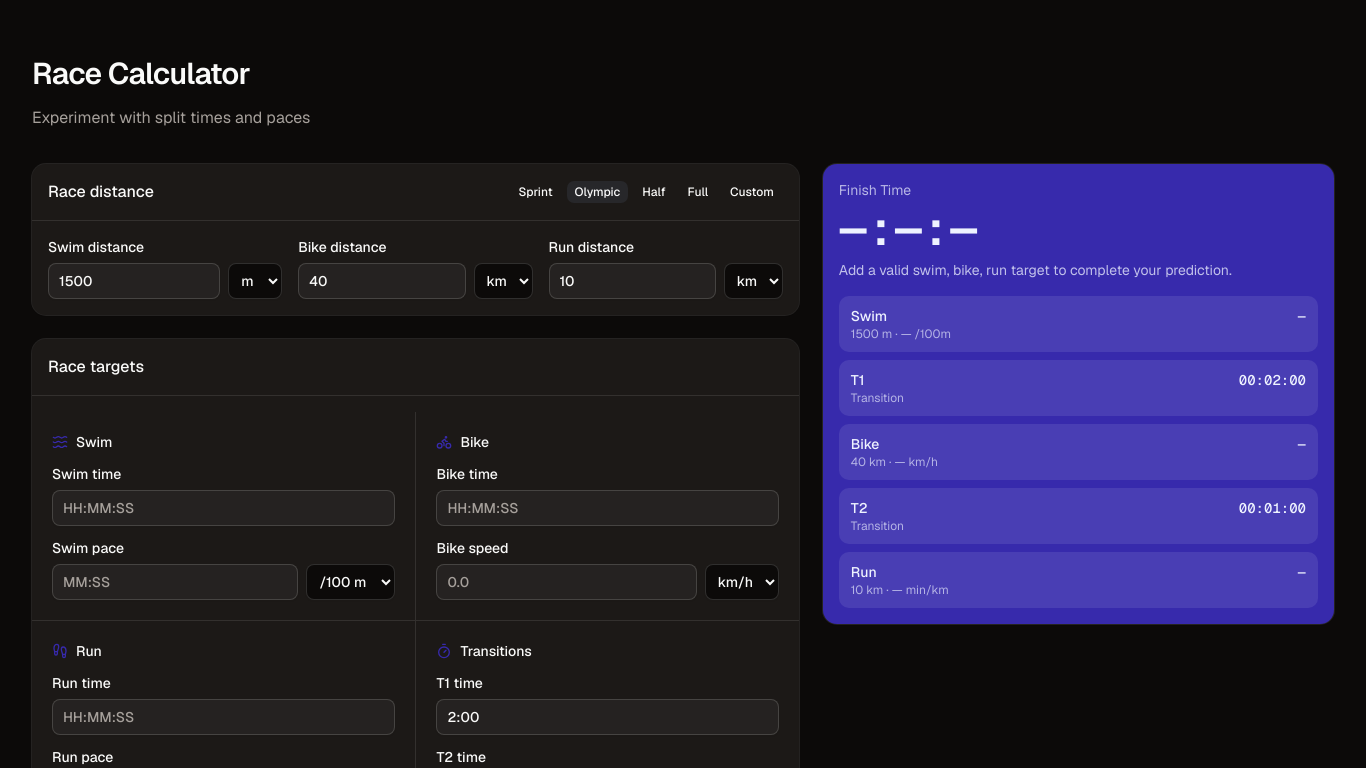
RaceTimeCalculator › marks edited presets custom and preserves targets across preset changes
Step 1. Type "30:00" into the field labelled "Swim time" → [224, 508], box 52,490 -> 395,526
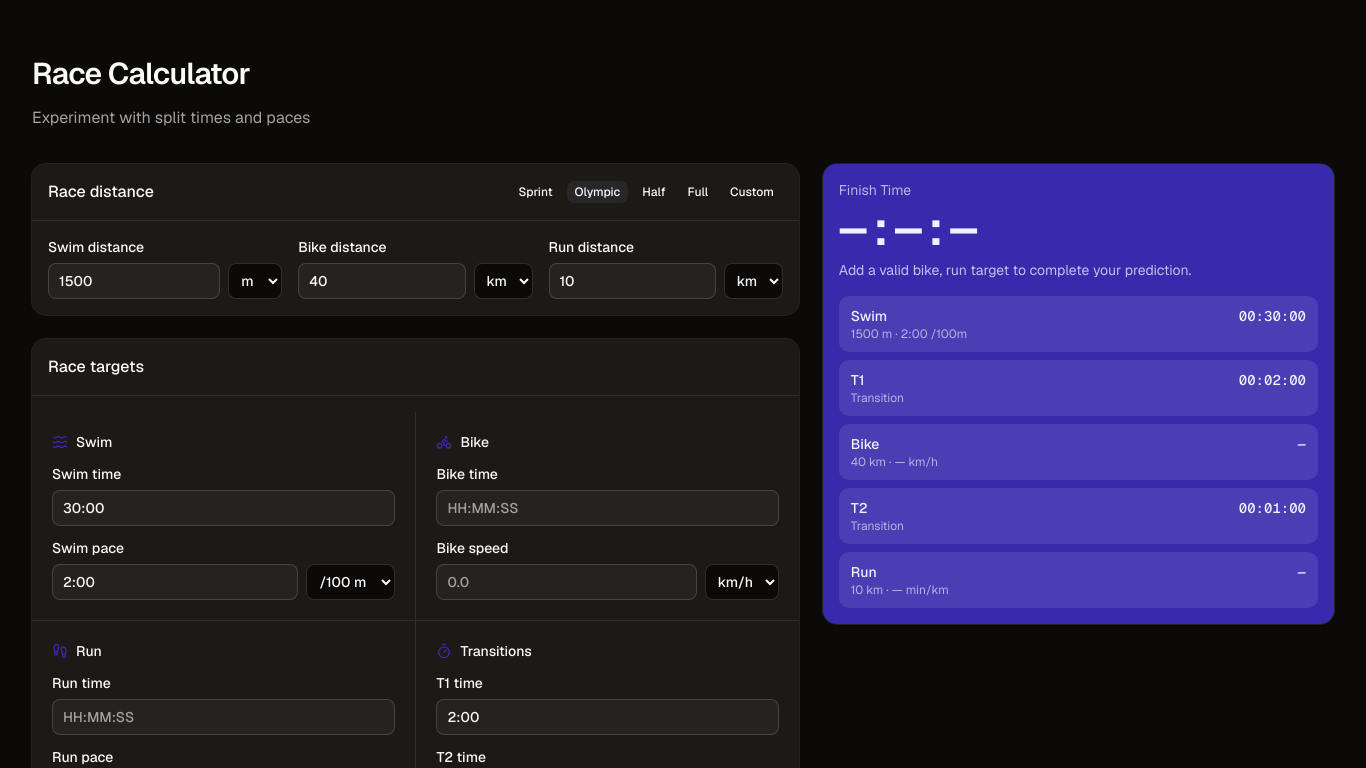
Step 2. Replace the text in the field labelled "Swim distance" with "1600" → [134, 281], box 48,263 -> 220,299
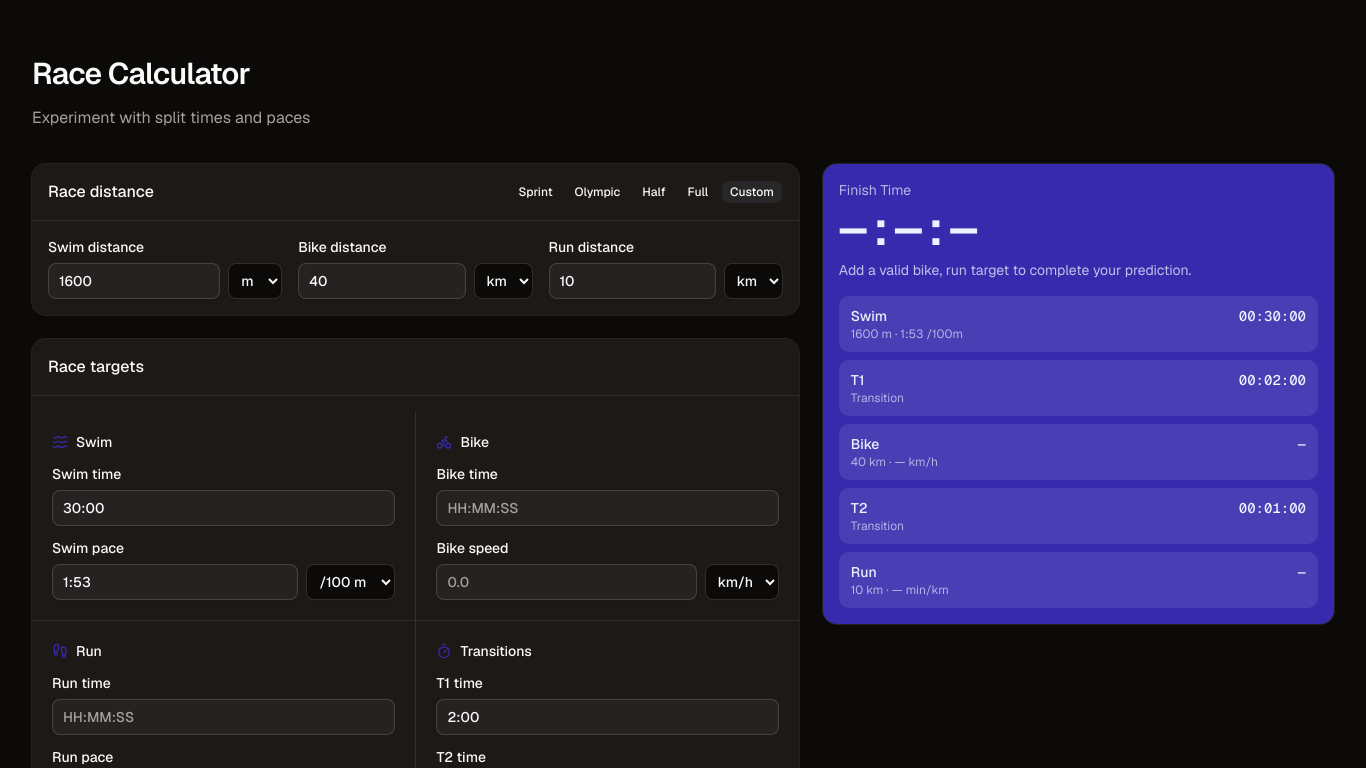
Step 3. Click the button "Half" → [654, 192], box 633,180 -> 675,204
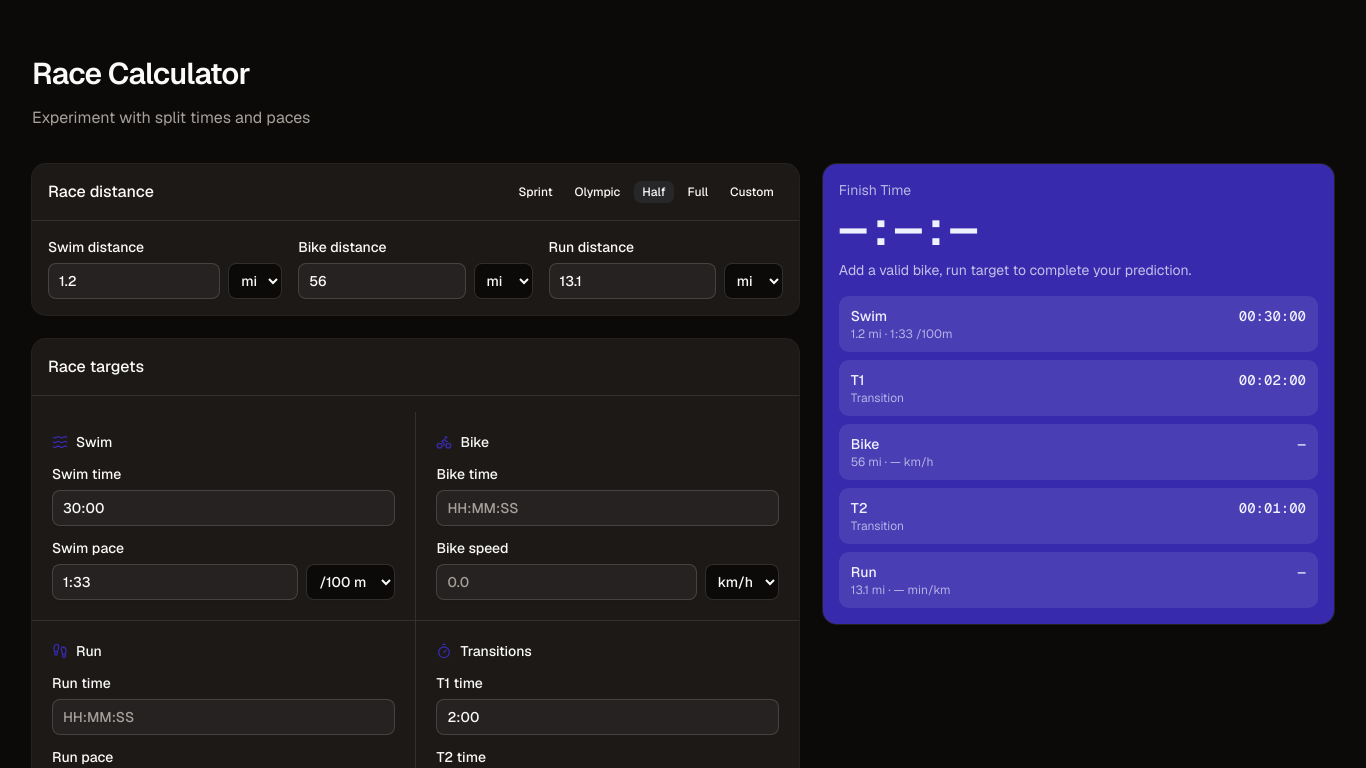
Expected: the dropdown named "Swim distance unit" shows "mi", 228,263 -> 282,299
Expected: the field labelled "Swim distance" holds "1.2", 48,263 -> 220,299
